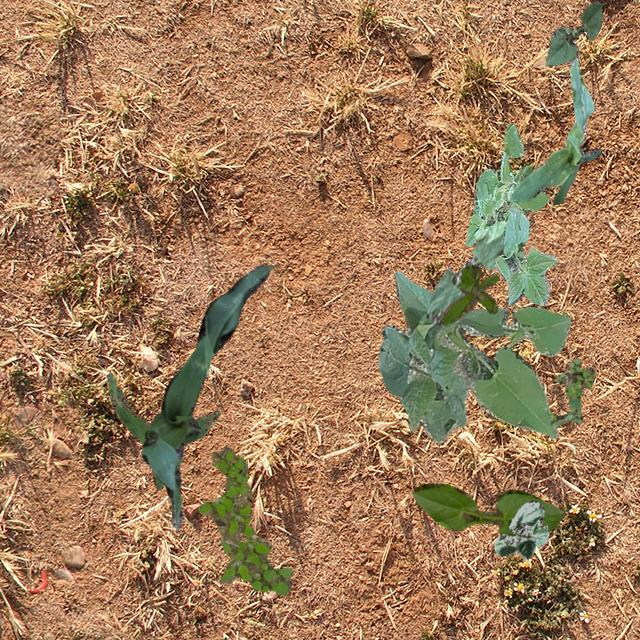crop: (140, 264, 268, 530), (378, 270, 570, 442), (508, 27, 600, 204), (105, 372, 218, 488), (425, 220, 505, 324), (412, 482, 564, 534), (494, 206, 556, 304), (544, 0, 600, 66), (492, 499, 548, 558)
weed: (196, 446, 292, 594), (464, 123, 548, 245), (439, 264, 496, 324), (550, 356, 594, 424)
